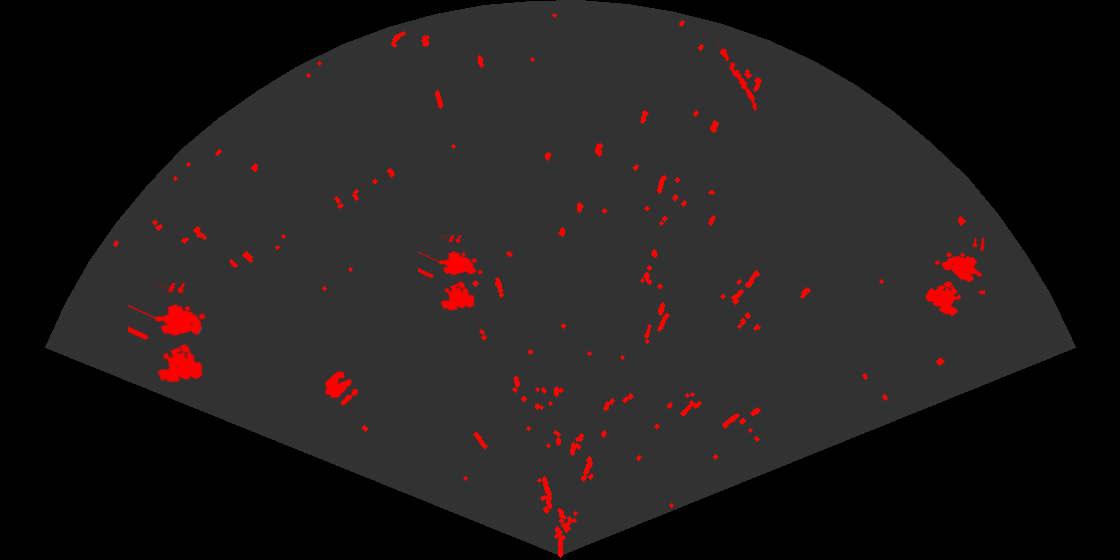ball: (324, 370, 360, 407)
cage: (128, 283, 208, 384), (418, 235, 484, 312), (924, 238, 985, 318)
chain: (714, 40, 759, 112)
